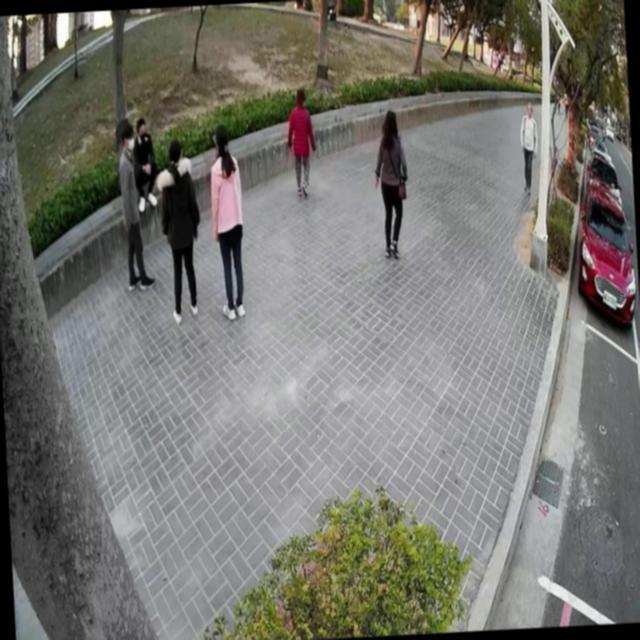person: (152, 132, 206, 326), (204, 120, 250, 323), (112, 115, 156, 294), (367, 100, 413, 268), (280, 82, 320, 202), (129, 114, 160, 216), (516, 99, 542, 198), (562, 93, 570, 121)
